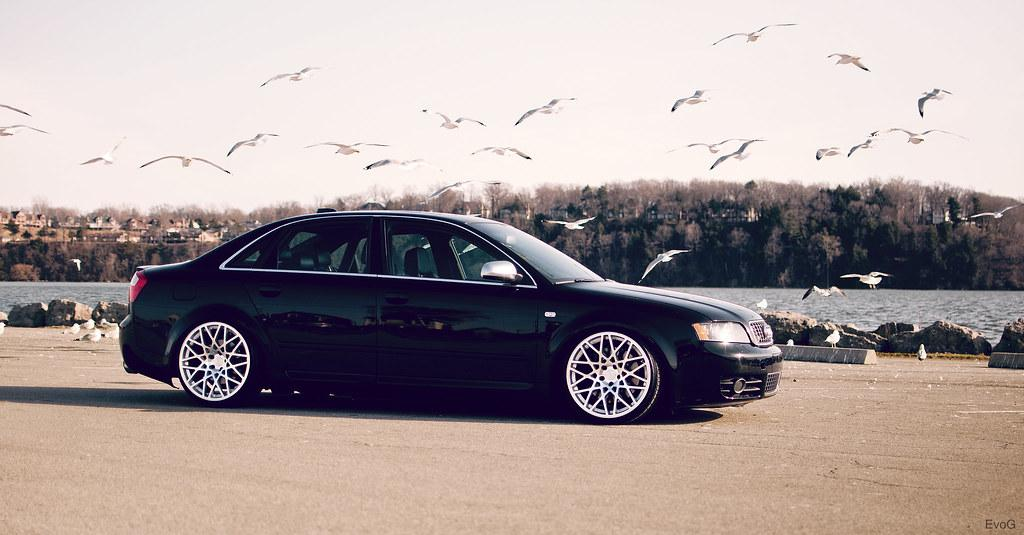car: (118, 208, 784, 425)
